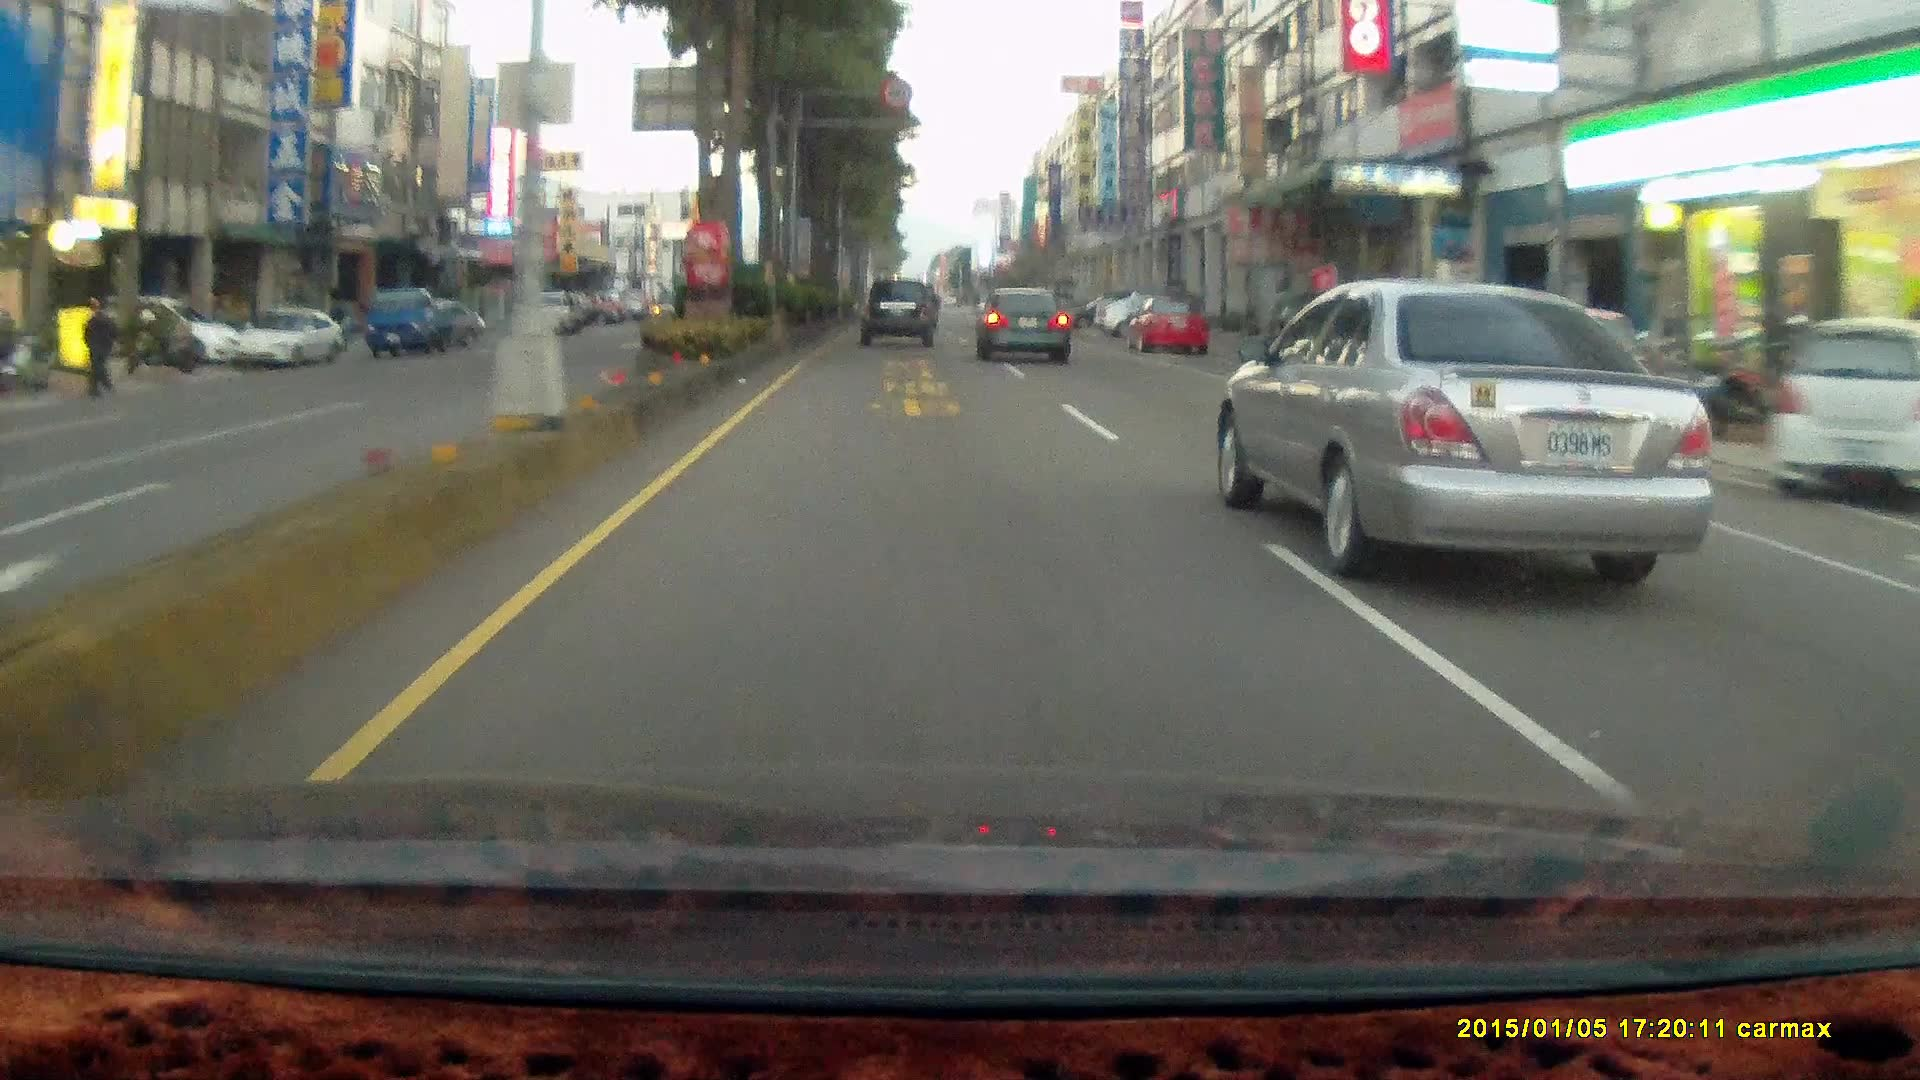pedestrian: (80, 304, 113, 400)
vehicle: (1227, 286, 1725, 578), (1765, 313, 1920, 508), (1477, 316, 1680, 455), (1769, 320, 1920, 504), (1300, 304, 1477, 392), (99, 296, 237, 368), (225, 306, 347, 372), (977, 300, 1074, 380), (974, 288, 1070, 365), (368, 291, 471, 359), (227, 311, 343, 371), (363, 290, 454, 361), (859, 277, 940, 350), (860, 279, 937, 349), (1122, 295, 1209, 356), (1127, 300, 1214, 361), (1093, 292, 1194, 340), (395, 298, 480, 344), (519, 289, 577, 337)
